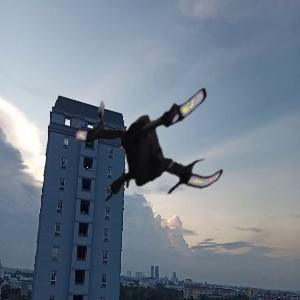drone: (61, 63, 230, 232)
